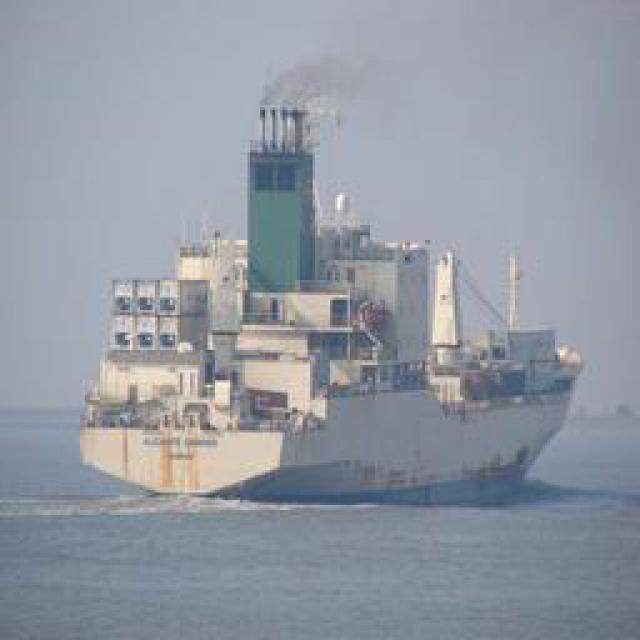Ship: (74, 177, 584, 500)
